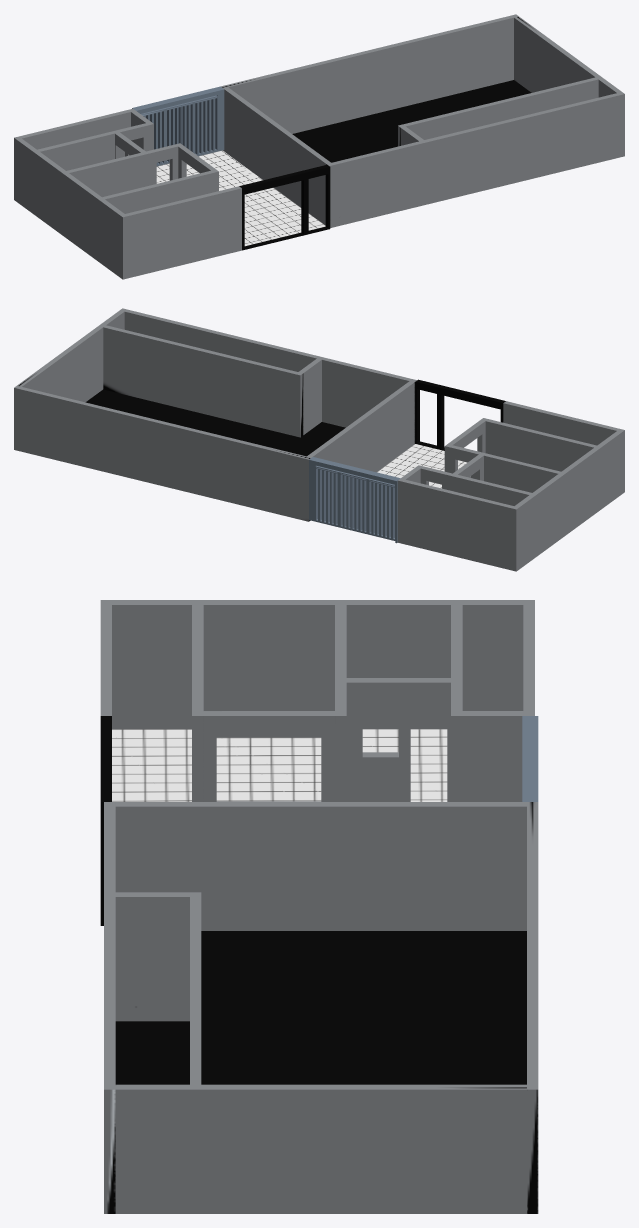
The model's file is GRNDFLR_SHS_With-Materials.fbx.
3 views of the same model, one above another, from view 1: azimuth 30°, elevation 25°; view 2: azimuth 150°, elevation 25°; view 3: azimuth 270°, elevation 25° (orthographic). The views are drawn at different scales.
Parts seen in each view (by area): view 1: Wall.002, Wall.001, Wall.003, Wall.004, Wall.006, Floor, Floor.001, Outside Entrance.001, Wall.014, Wall.005, Wall.008, Wall.009 (+5 smaller); view 2: Wall.001, Wall.014, Wall, Wall.002, Wall.004, Outside Entrance.001, Wall.006, Floor, Wall.005, Wall.007, Wall.003, Wall.008 (+6 smaller); view 3: Wall.005, Floor, Wall.006, Wall.004, Wall.013, Wall.011, Floor.002, Floor.001, Wall.012, Wall.010, Wall.001, Wall.002 (+10 smaller).
Boxes of the visible parts, bbox=[...] form: Wall.002: bbox=[326, 92, 624, 227]; Wall.001: bbox=[220, 14, 518, 133]; Wall.003: bbox=[120, 186, 241, 279]; Wall.004: bbox=[17, 138, 124, 277]; Wall.006: bbox=[223, 87, 330, 225]; Floor: bbox=[292, 80, 531, 162]; Floor.001: bbox=[156, 150, 325, 246]; Outside Entrance.001: bbox=[132, 86, 224, 166]; Wall.014: bbox=[398, 77, 598, 146]; Wall.005: bbox=[514, 16, 621, 97]; Wall.008: bbox=[66, 143, 182, 197]; Wall.009: bbox=[37, 122, 153, 170]; Wall.001: bbox=[14, 386, 310, 521]; Wall.014: bbox=[103, 325, 303, 437]; Wall: bbox=[397, 478, 519, 571]; Wall.002: bbox=[120, 308, 416, 443]; Wall.004: bbox=[514, 431, 621, 569]; Outside Entrance.001: bbox=[309, 457, 400, 543]; Wall.006: bbox=[307, 381, 414, 472]; Floor: bbox=[85, 389, 345, 456]; Wall.005: bbox=[17, 310, 124, 402]; Wall.007: bbox=[481, 418, 596, 471]; Wall.003: bbox=[503, 401, 624, 493]; Wall.008: bbox=[444, 444, 560, 492]; Wall.005: bbox=[115, 1084, 526, 1213]; Floor: bbox=[201, 931, 526, 1084]; Wall.006: bbox=[115, 802, 526, 930]; Wall.004: bbox=[112, 600, 523, 729]; Wall.013: bbox=[115, 892, 189, 1021]; Wall.011: bbox=[346, 678, 450, 801]; Floor.002: bbox=[216, 737, 321, 801]; Floor.001: bbox=[112, 729, 191, 801]; Wall.012: bbox=[461, 711, 523, 801]; Wall.010: bbox=[203, 711, 334, 801]; Wall.001: bbox=[527, 802, 538, 1213]; Wall.002: bbox=[104, 802, 115, 1213].
Size of the model in its own units: 2535 by 300 by 958.
Materials: 1 (1 with a texture image).
